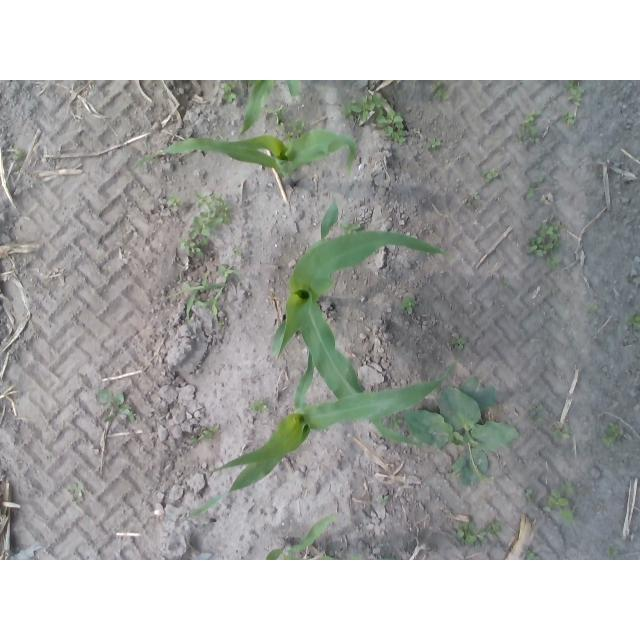Maize: (184, 351, 460, 517), (272, 197, 448, 445), (134, 131, 358, 189), (239, 81, 302, 138), (266, 516, 332, 560)
Weeds: (440, 376, 520, 484), (170, 265, 239, 324), (194, 193, 231, 228), (528, 218, 561, 256), (343, 93, 385, 121), (377, 110, 404, 135), (189, 217, 209, 245), (98, 391, 126, 409), (194, 426, 219, 443), (603, 422, 621, 444), (569, 87, 584, 105), (270, 107, 285, 125), (459, 525, 474, 543), (221, 85, 235, 104), (402, 296, 418, 312), (550, 491, 567, 506), (476, 525, 499, 536), (522, 114, 540, 127), (453, 335, 468, 350), (288, 121, 305, 134), (391, 129, 406, 143), (168, 196, 180, 213), (252, 400, 269, 412), (121, 407, 135, 421), (559, 508, 573, 522), (483, 168, 497, 182), (527, 405, 541, 418), (562, 111, 575, 125), (557, 426, 572, 438), (631, 309, 640, 328), (548, 256, 561, 269), (12, 148, 24, 162), (177, 238, 191, 250), (527, 129, 542, 140), (425, 139, 439, 150), (431, 81, 446, 91), (437, 90, 449, 102), (589, 304, 601, 315), (523, 545, 534, 556), (190, 242, 200, 254), (562, 482, 574, 492), (71, 482, 84, 490), (233, 245, 243, 255), (526, 188, 535, 198), (517, 134, 527, 142), (471, 192, 480, 200), (524, 489, 532, 497), (568, 81, 577, 88), (553, 288, 558, 294), (218, 322, 225, 326)
